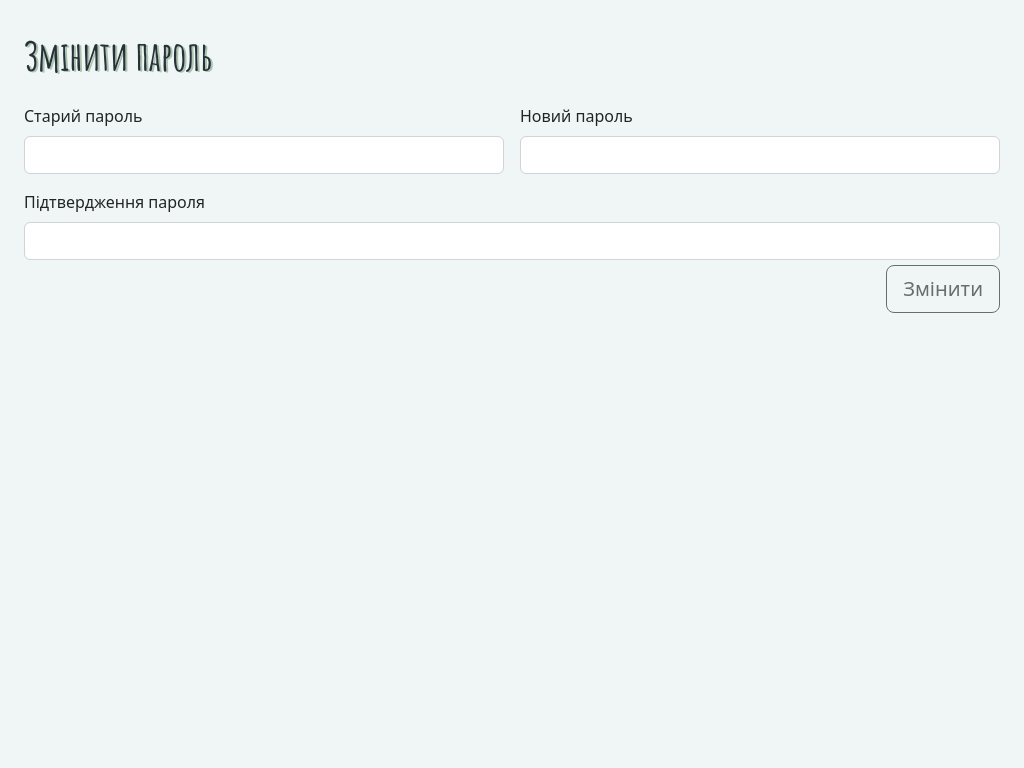
Test: ChangePasswordForm › Given incorrect data, it should display error message
In the password field labelled "Старий пароль": (264, 155) top-left (24, 136), bottom-right (504, 174), type "incorrectpassword"
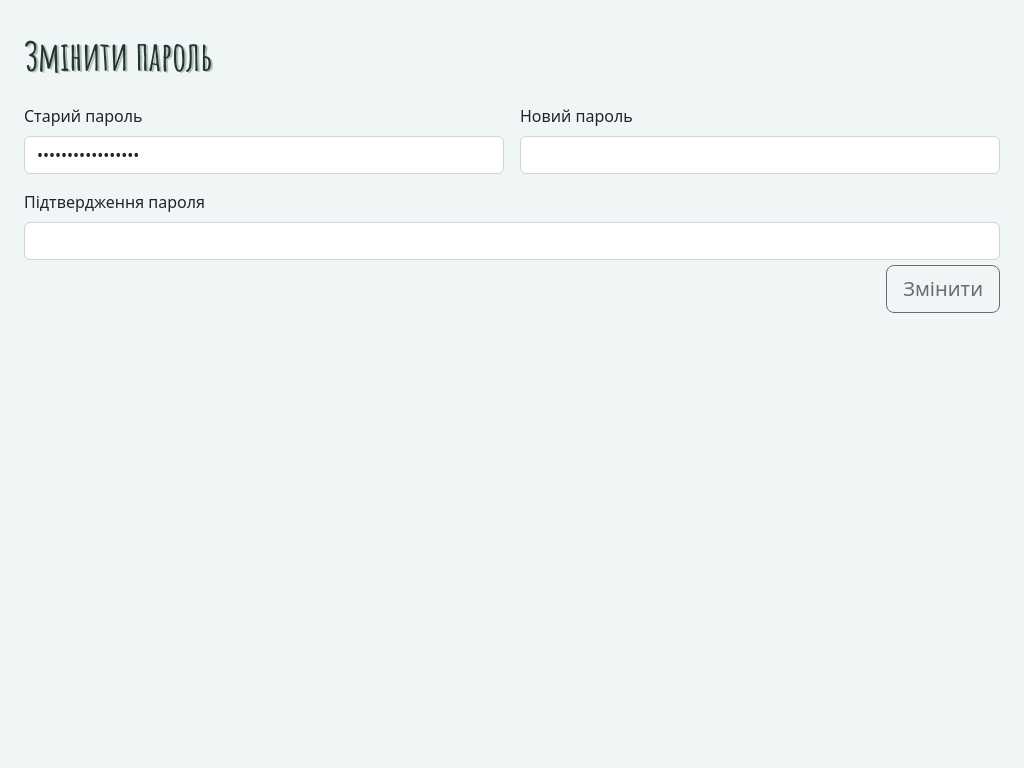
In the password field labelled "Новий пароль": (760, 155) top-left (520, 136), bottom-right (1000, 174), type "newpassword"
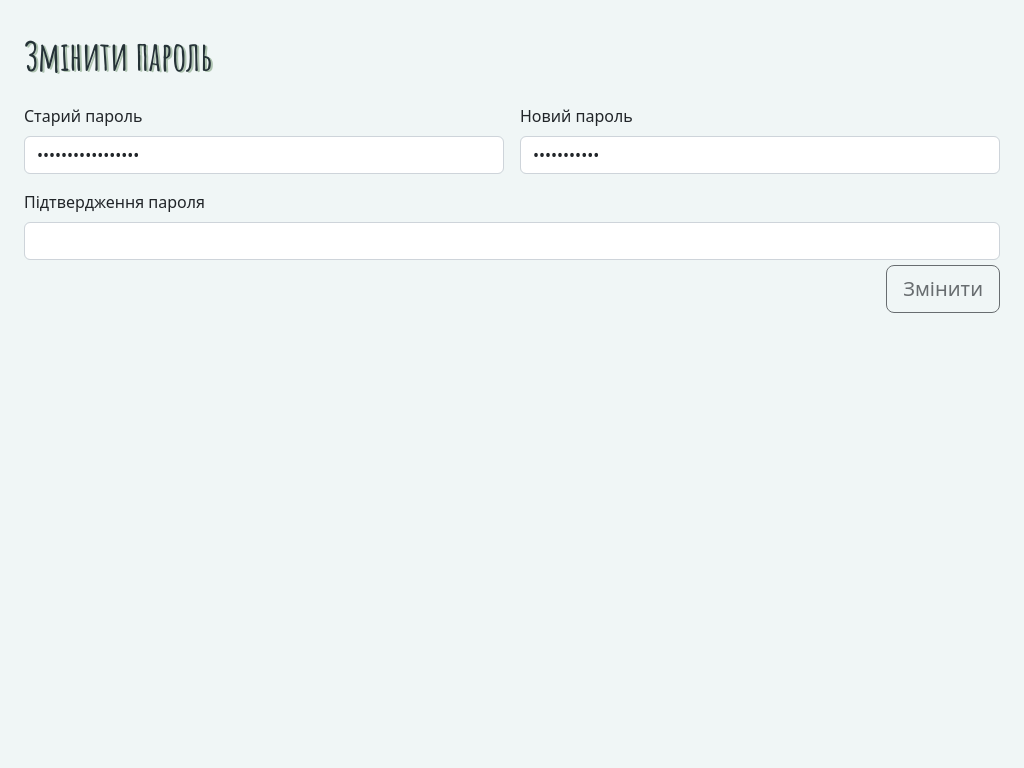
In the password field labelled "Підтвердження пароля": (512, 241) top-left (24, 222), bottom-right (1000, 260), type "newpassword"
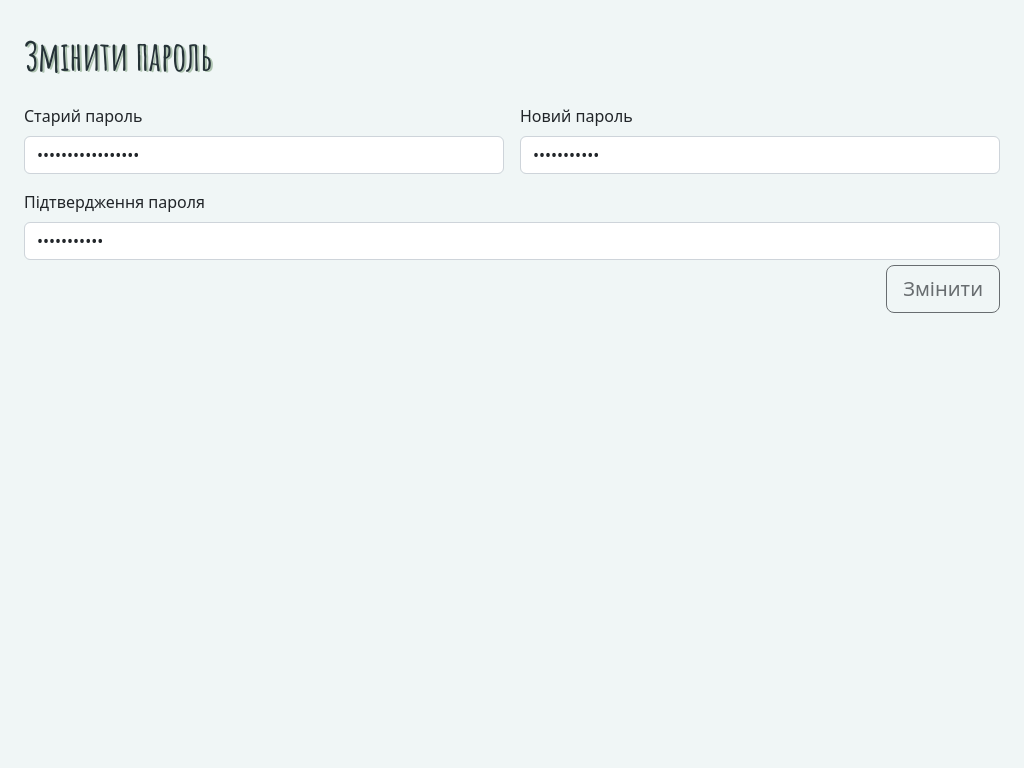
Submit the form with test id "change-password-form", box top-left (0, 0), bottom-right (1023, 409)
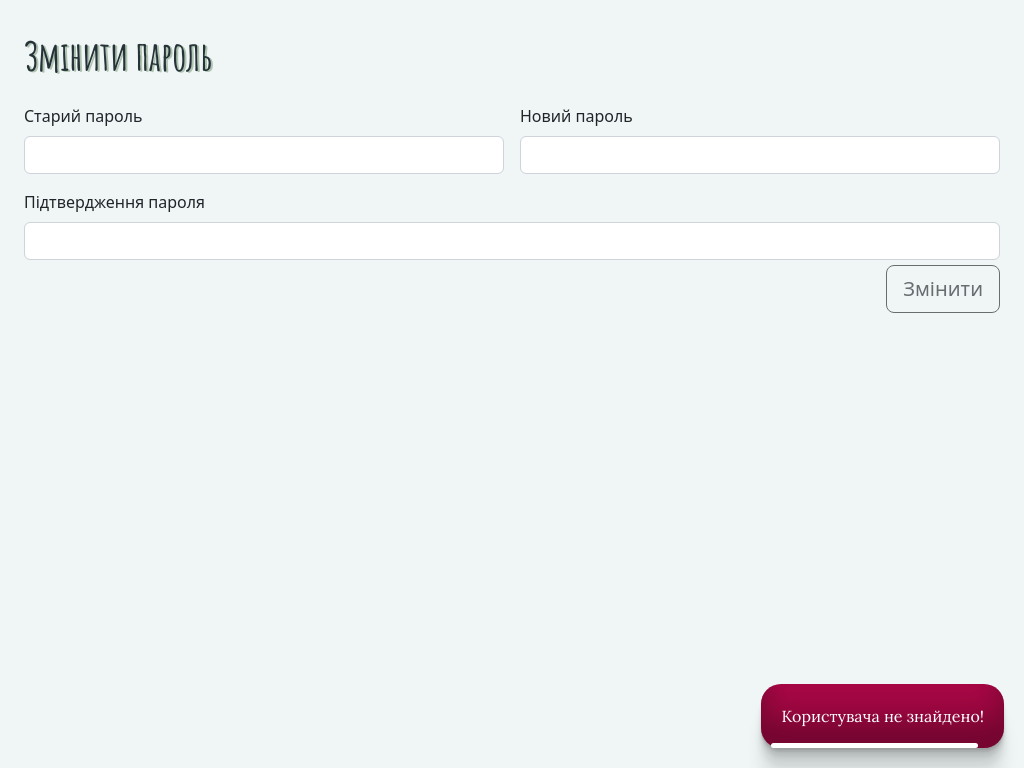
Result: the text "Користувача не знайдено!" is shown at top-left (761, 684), bottom-right (1004, 748)
